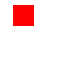square: (13, 5, 33, 25)
